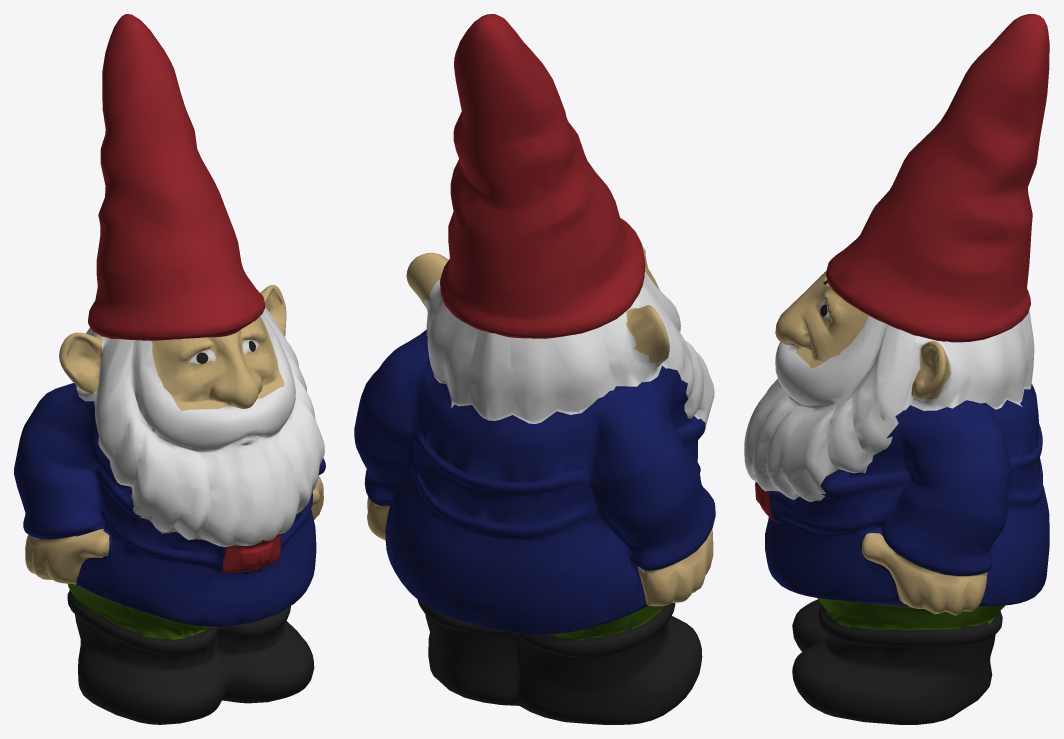
Rendered from Gnome.FBX.
3 renders of one model, left to right at view 1: azimuth 30°, elevation 25°; view 2: azimuth 150°, elevation 25°; view 3: azimuth 270°, elevation 25°, orthographic. The views are drawn at different scales.
Visible parts, largest first — view 1: Gnome; view 2: Gnome; view 3: Gnome.
Boxes of the visible parts, x1,y1,x2,y2 form: Gnome: [14, 14, 325, 724]; Gnome: [354, 14, 715, 724]; Gnome: [744, 14, 1049, 724].
Size of the model in its own units: 0.2761 by 0.5758 by 0.2413.
1 material, 1 textured.
